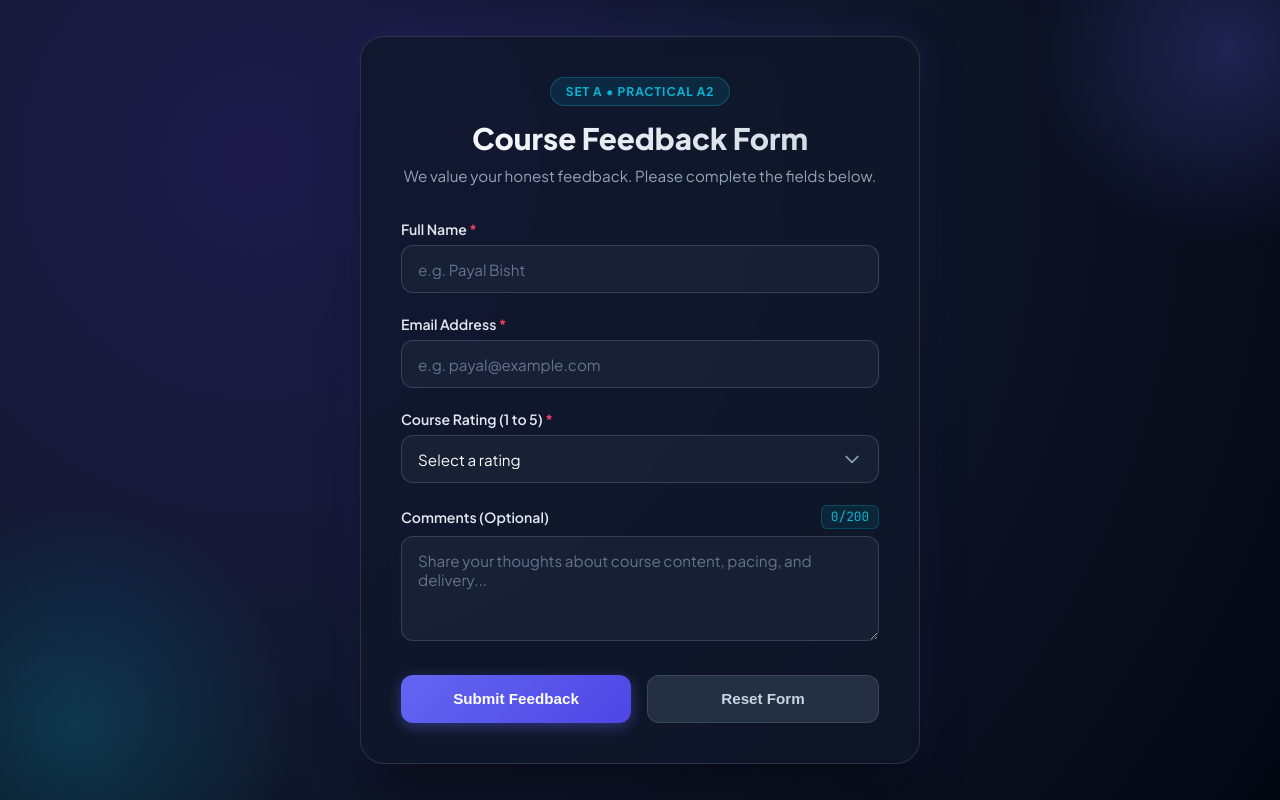
Test: Practical A2: Feedback Form with Validation (React) › removes error messages individually as each field becomes valid
Trigger validation
Click the button with test id "submit-btn" at coordinates (516, 699), box [401, 675, 631, 722]
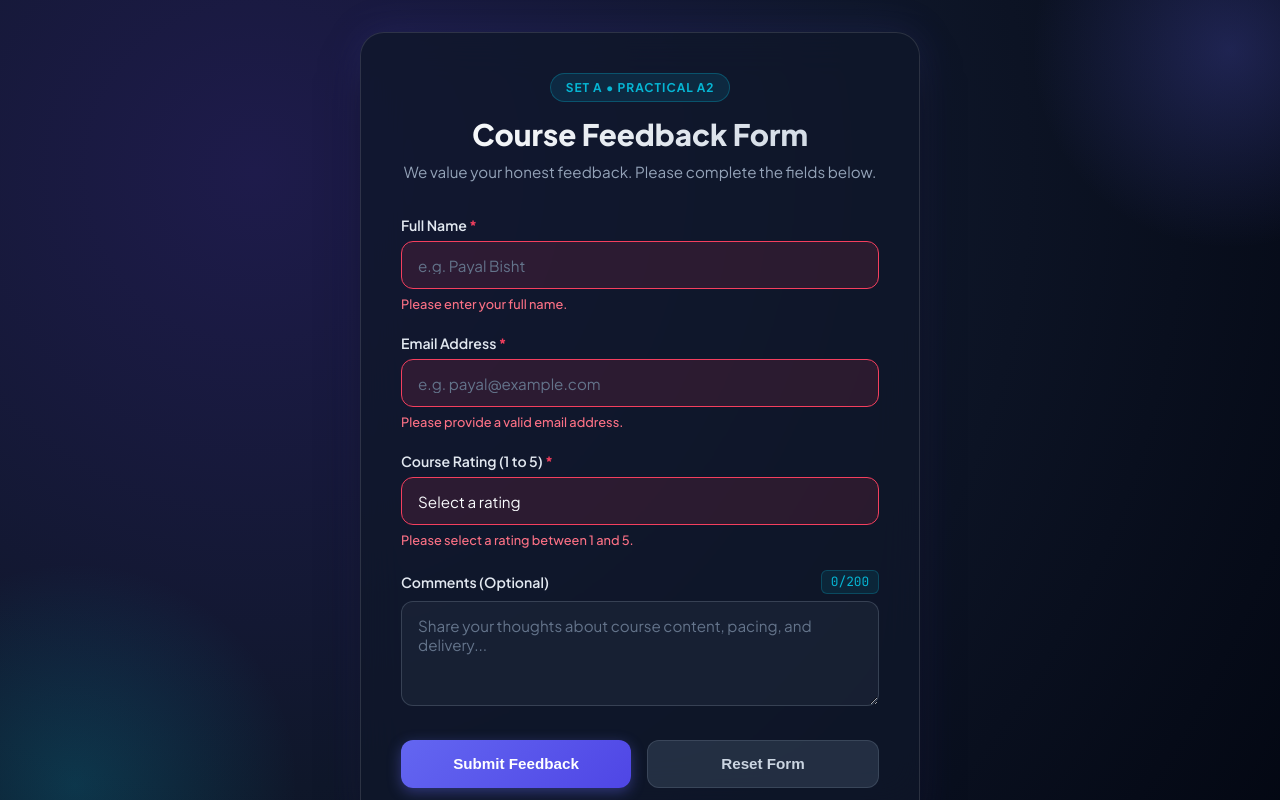
Expected: the text "Please enter your full name." is shown, [401, 296, 567, 312]
Expected: the text "Please provide a valid email address." is shown, [401, 414, 623, 430]
Expected: the text "Please select a rating between 1 and 5." is shown, [401, 532, 634, 548]
Fix name
Type "Payal Bisht" into the field with test id "name-input" at coordinates (640, 265), box [401, 241, 879, 289]
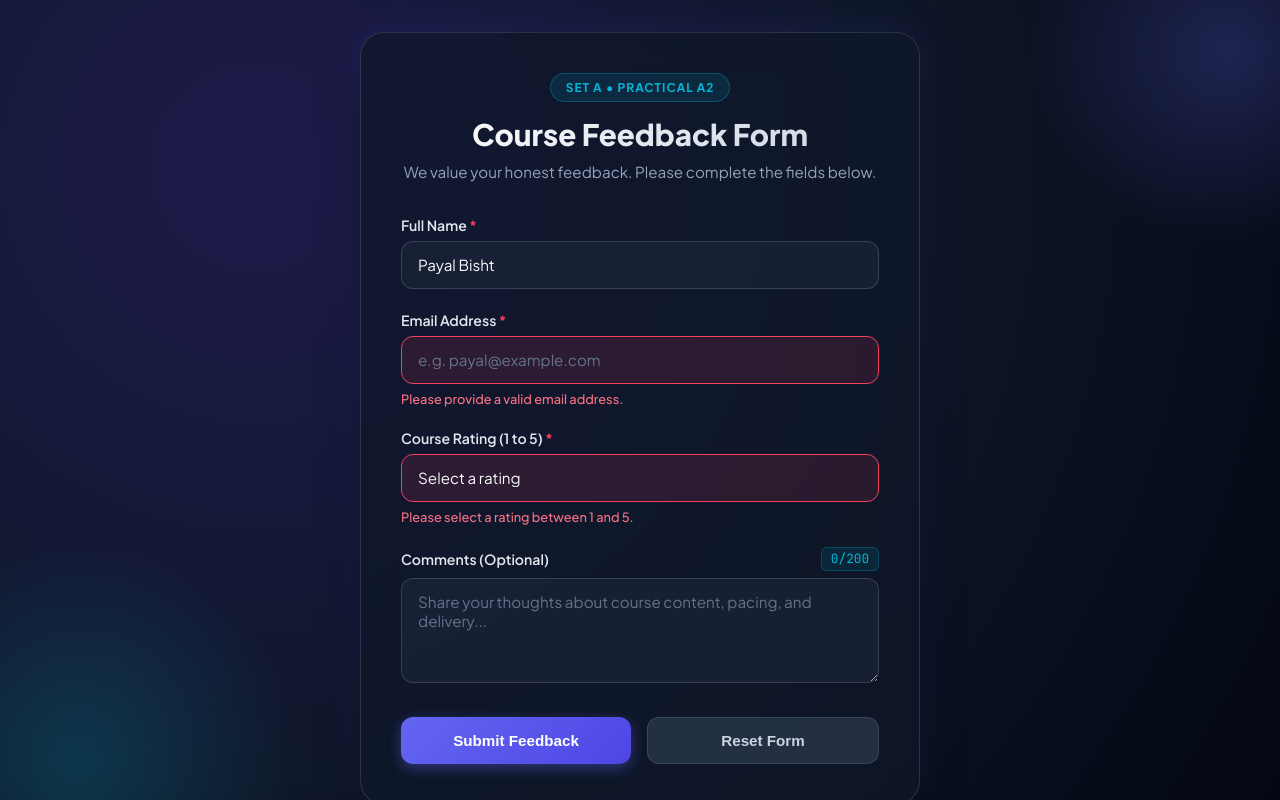
Expected: the text "Please provide a valid email address." is shown, [401, 391, 623, 407]
Expected: the text "Please select a rating between 1 and 5." is shown, [401, 509, 634, 525]
Expected: the text with test id "name-error" is gone
Fix email
Type "payal@example.com" into the field with test id "email-input" at coordinates (640, 360), box [401, 336, 879, 384]
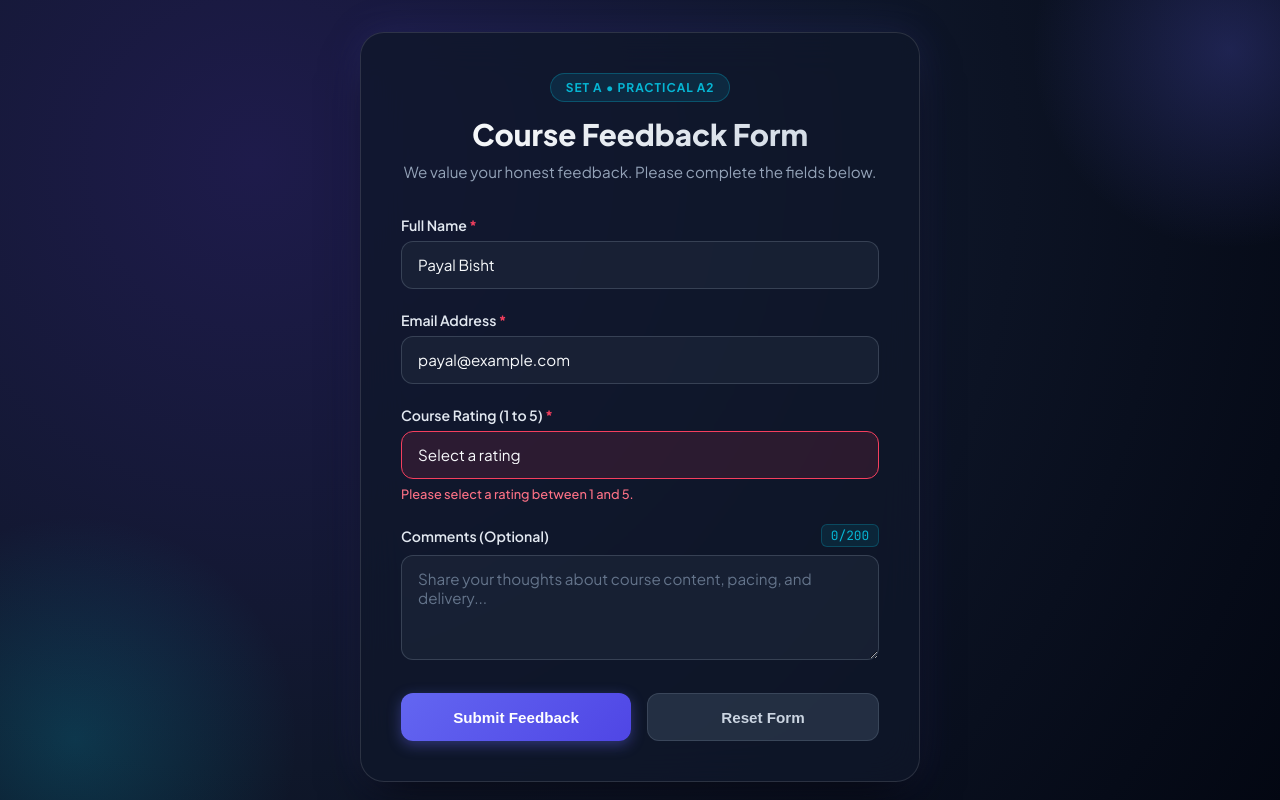
Expected: the text "Please select a rating between 1 and 5." is shown, [401, 486, 634, 502]
Expected: the text with test id "email-error" is gone
Fix rating
Select "5" in the dropdown with test id "rating-select" at coordinates (640, 455), box [401, 431, 879, 479]
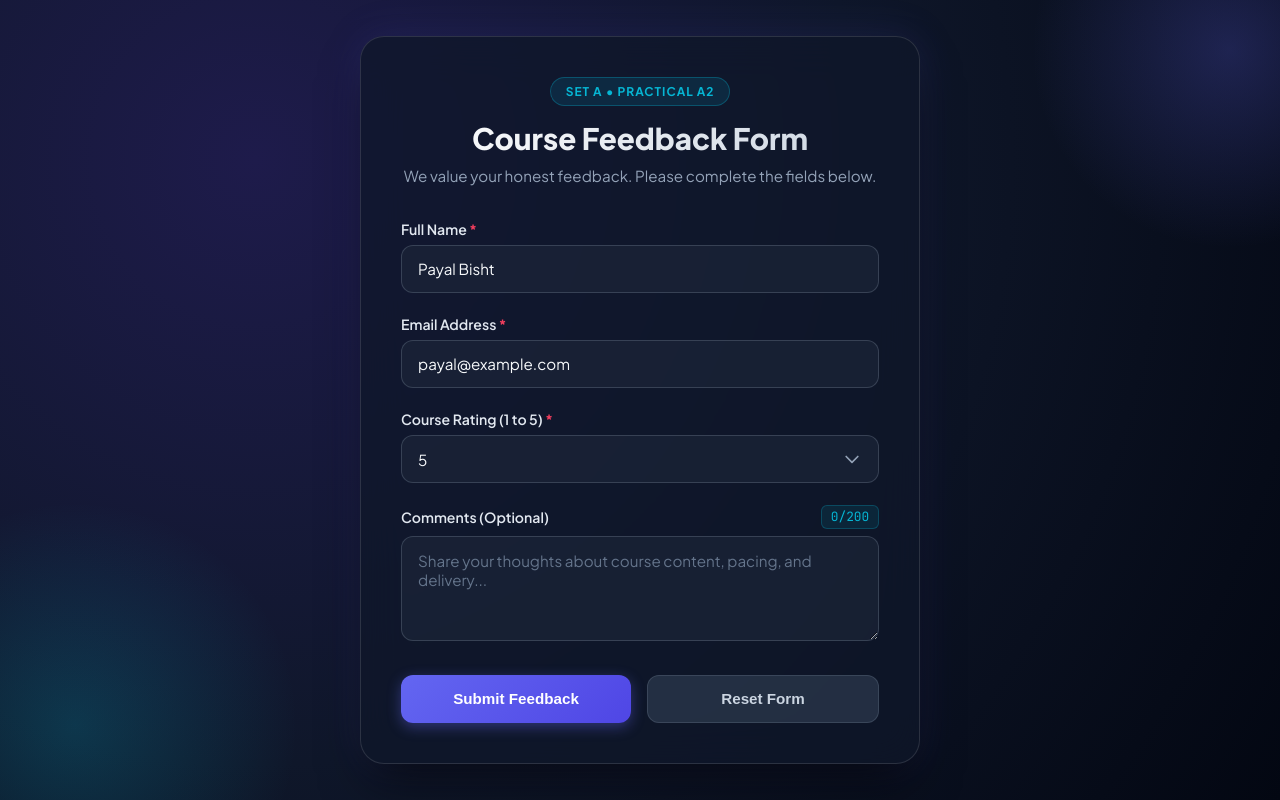
Expected: the text with test id "rating-error" is gone
